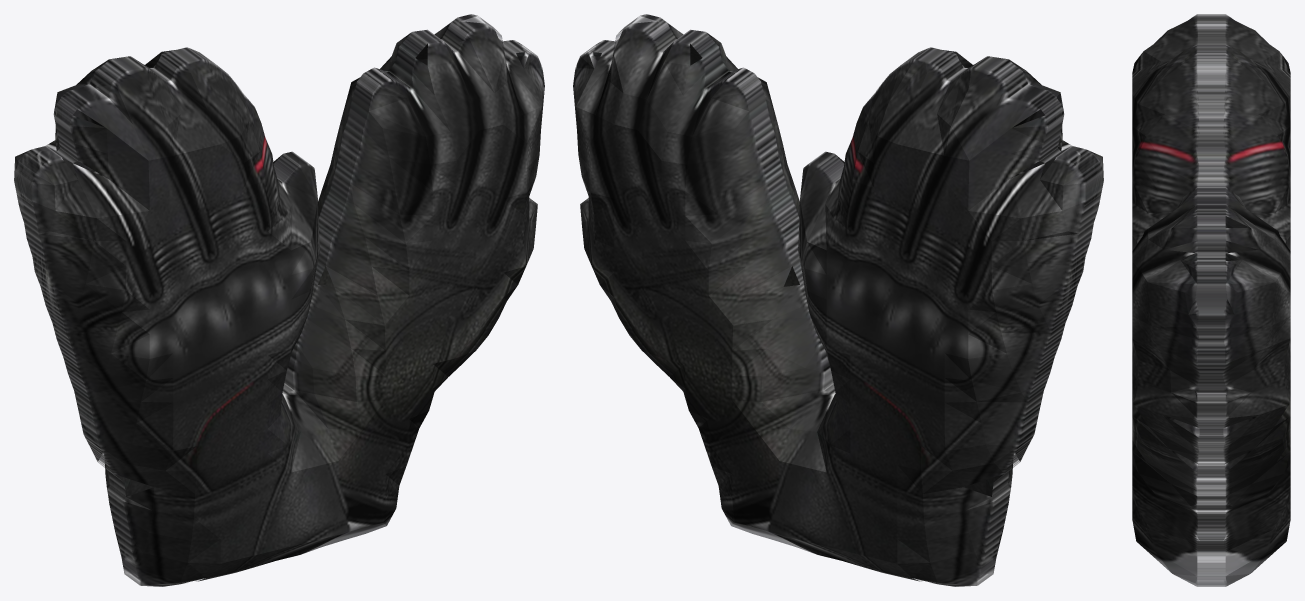
File: givi-vector-touring-glove-092.glb
The picture shows the model from 3 angles, left to right: view 1: azimuth 30°, elevation 25°; view 2: azimuth 150°, elevation 25°; view 3: azimuth 270°, elevation 25°; orthographic projection. The views are drawn at different scales.
Parts seen in each view (by area): view 1: world; view 2: world; view 3: world.
Boxes of the visible parts, box(x1,y1,x2,y2) form: world: box(14, 14, 544, 586); world: box(573, 14, 1103, 586); world: box(1132, 14, 1290, 586).
Bounding box in the file's own units: 1 × 0.9877 × 0.3.
1 material, 1 textured.
